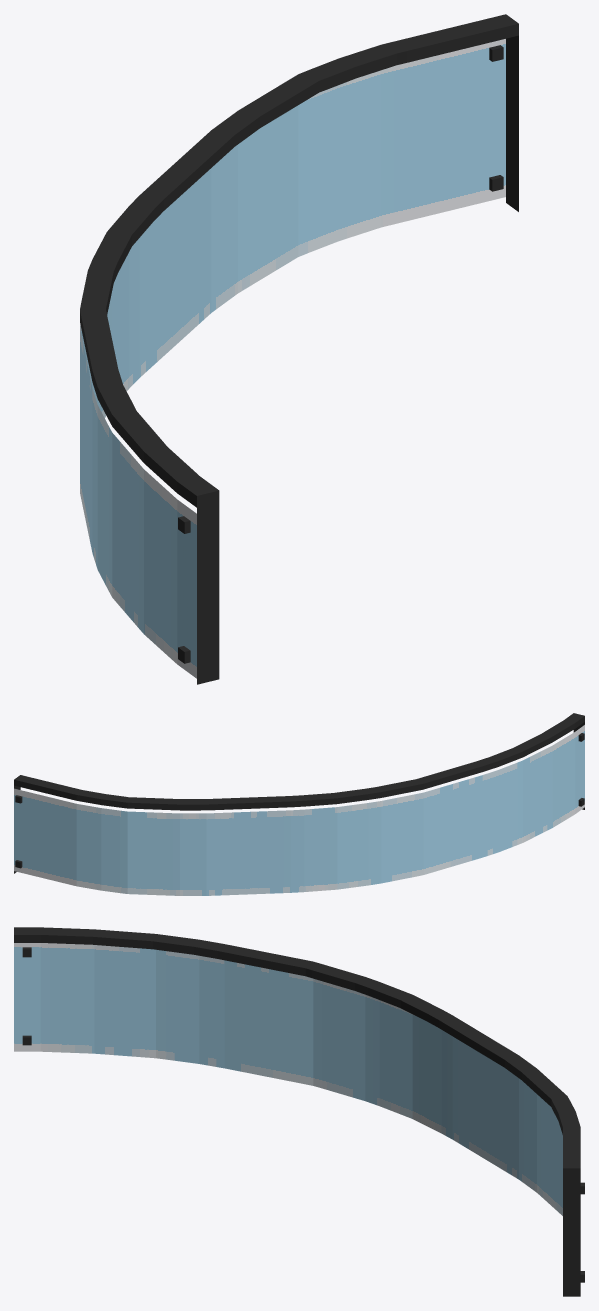
The model's file is baranda_esquina(1).gltf.
3 views of the same model, one above another, from view 1: azimuth 30°, elevation 25°; view 2: azimuth 150°, elevation 25°; view 3: azimuth 270°, elevation 25° (orthographic). The views are drawn at different scales.
Visible parts, largest first — view 1: baranda_esquina; view 2: baranda_esquina; view 3: baranda_esquina.
Part boxes in pixels (bbox=[...]): baranda_esquina: bbox=[80, 14, 518, 684]; baranda_esquina: bbox=[14, 713, 584, 895]; baranda_esquina: bbox=[14, 927, 580, 1296].
Size of the model in its own units: 4.06 by 1 by 4.03.
Materials: 2 (2 with a texture image).
